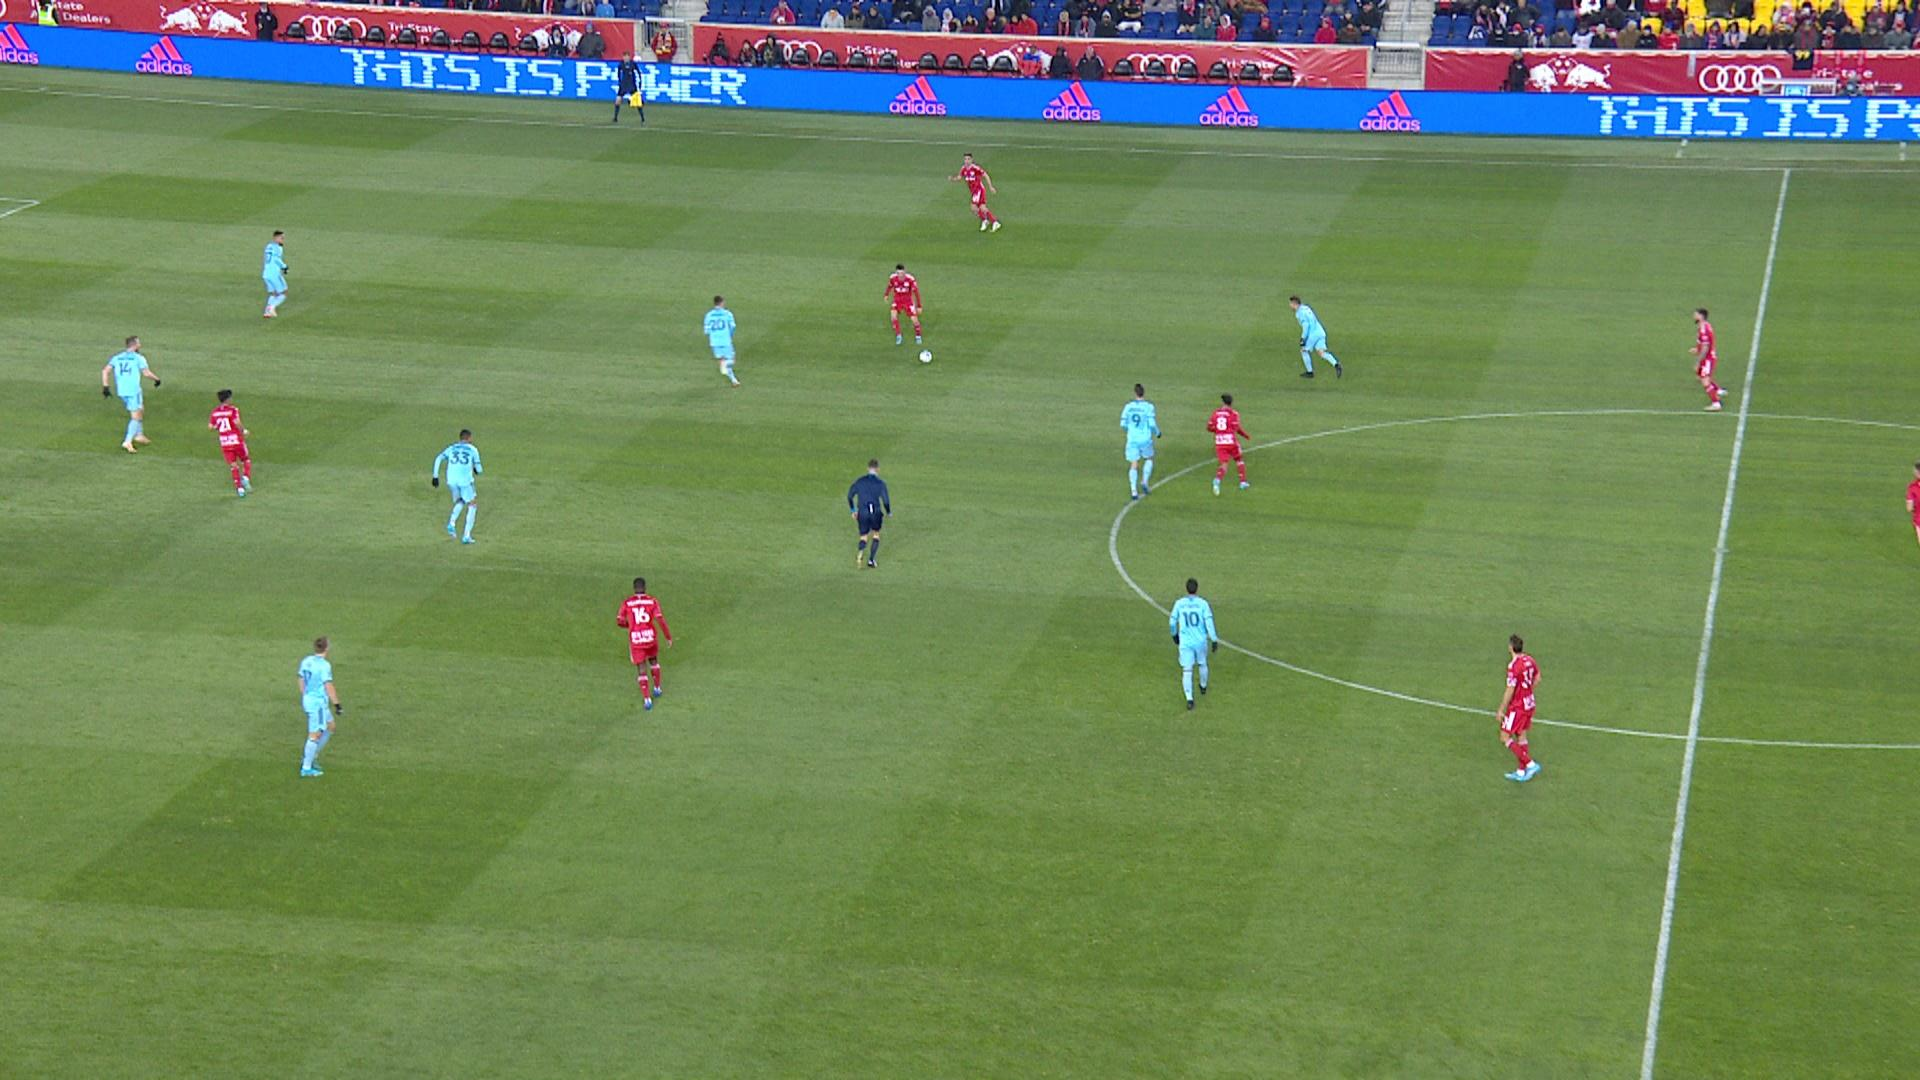football: (918, 349, 934, 364)
